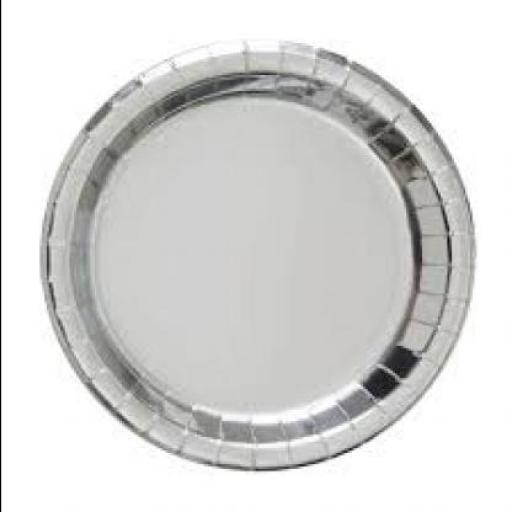metal: (41, 43, 476, 476)
